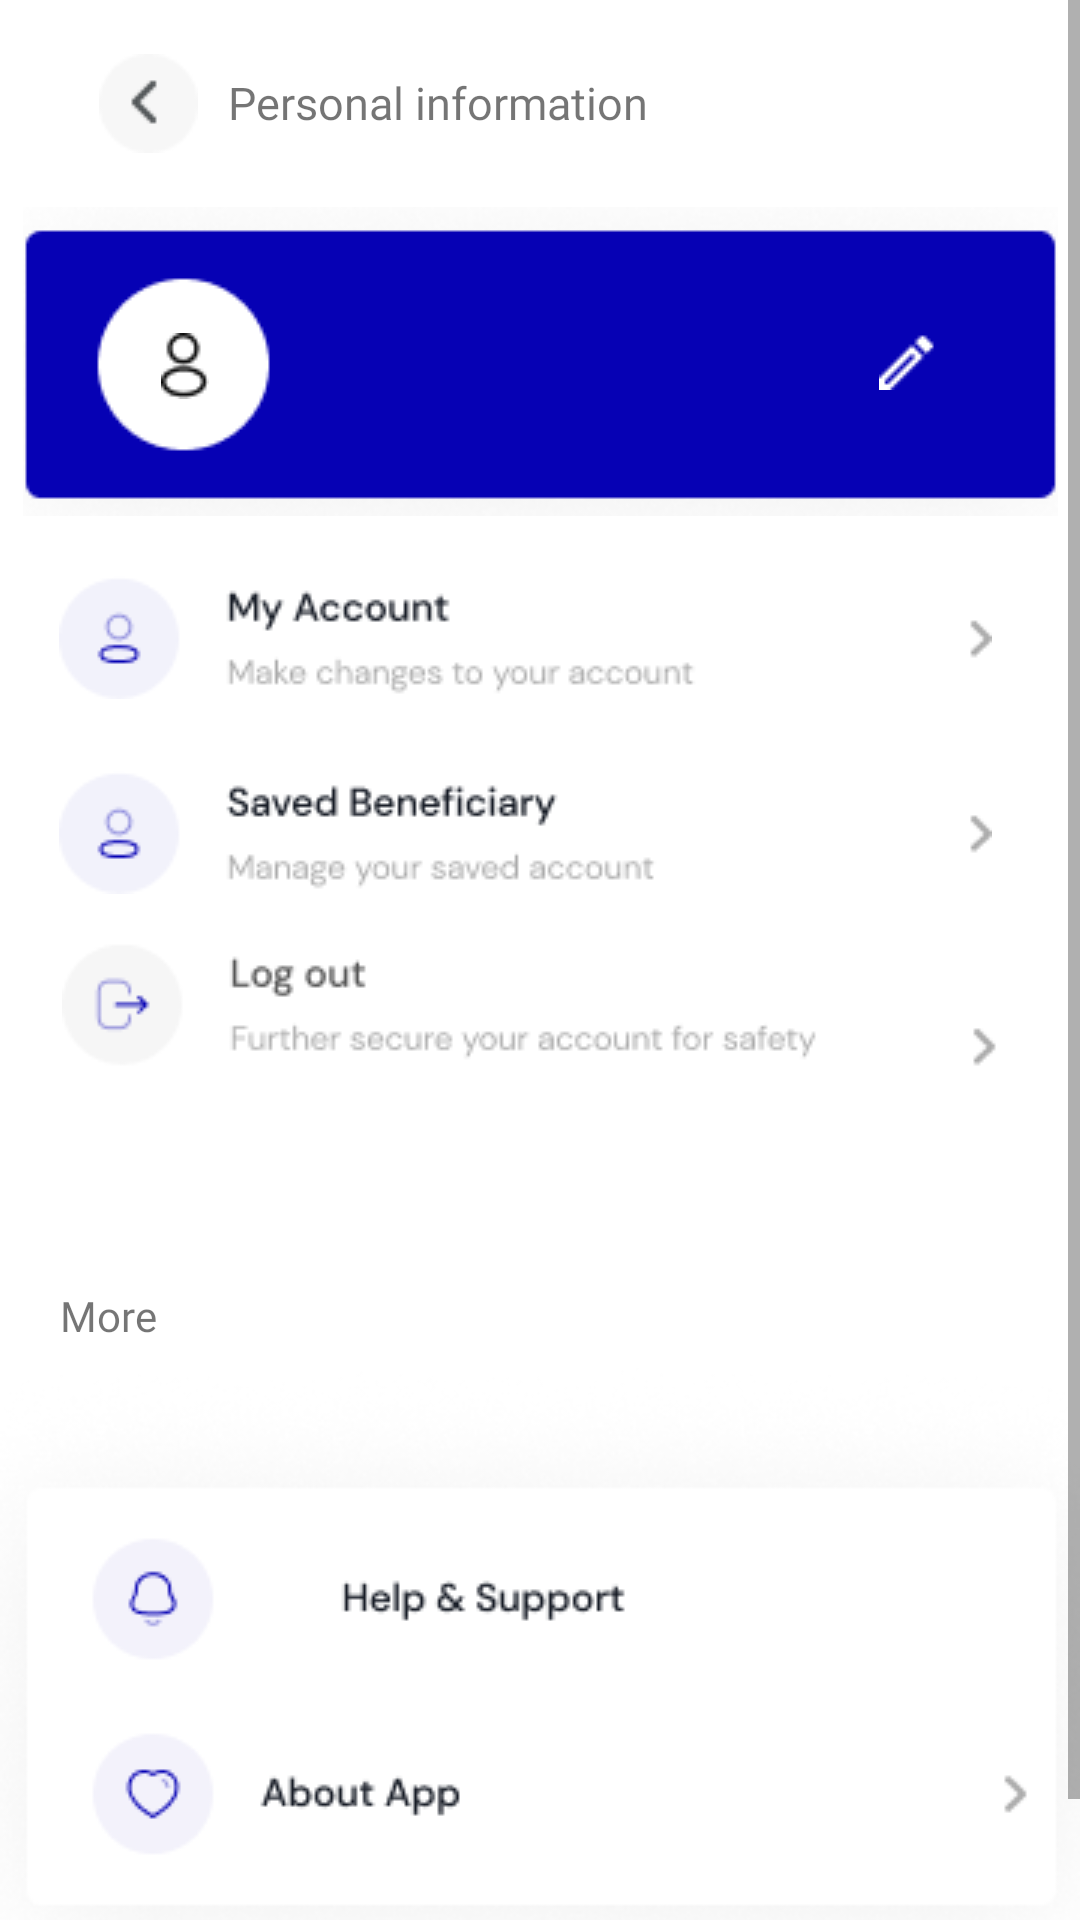

Screen size 1080px×1920px. Icon name, then its center in pixels as (x,y):
backbtn: (144,102)
